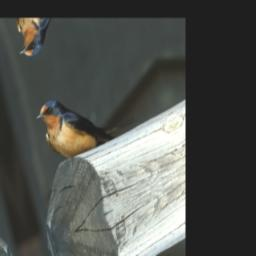Swallow: (33, 59, 139, 175)
